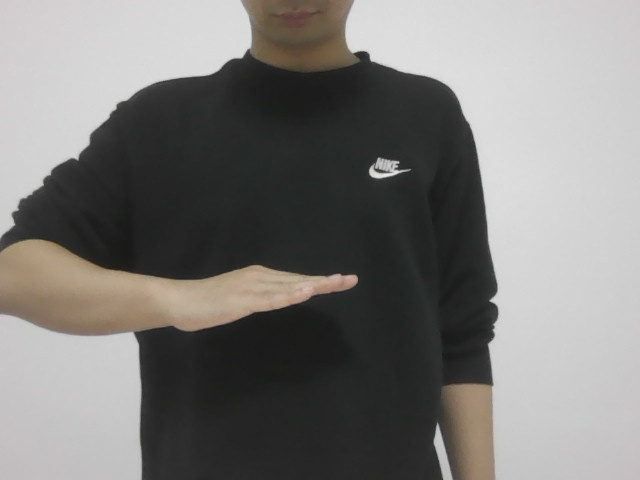safe: (151, 250, 363, 343)
